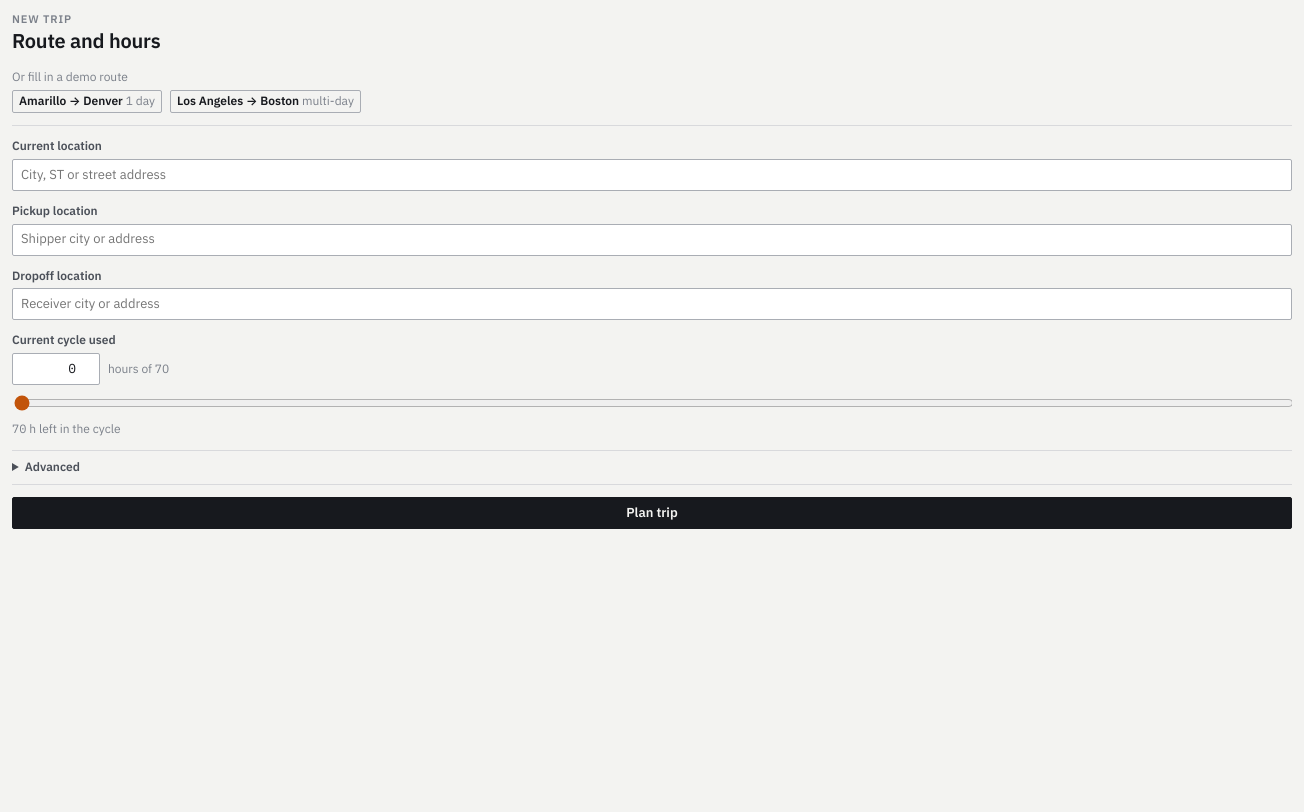
Scenario: TripForm › checks obvious mistakes locally and does not submit
Type "Denver, CO" into the field labelled "Pickup location". click: coordinates (652, 240)
box: [12,224,1292,256]
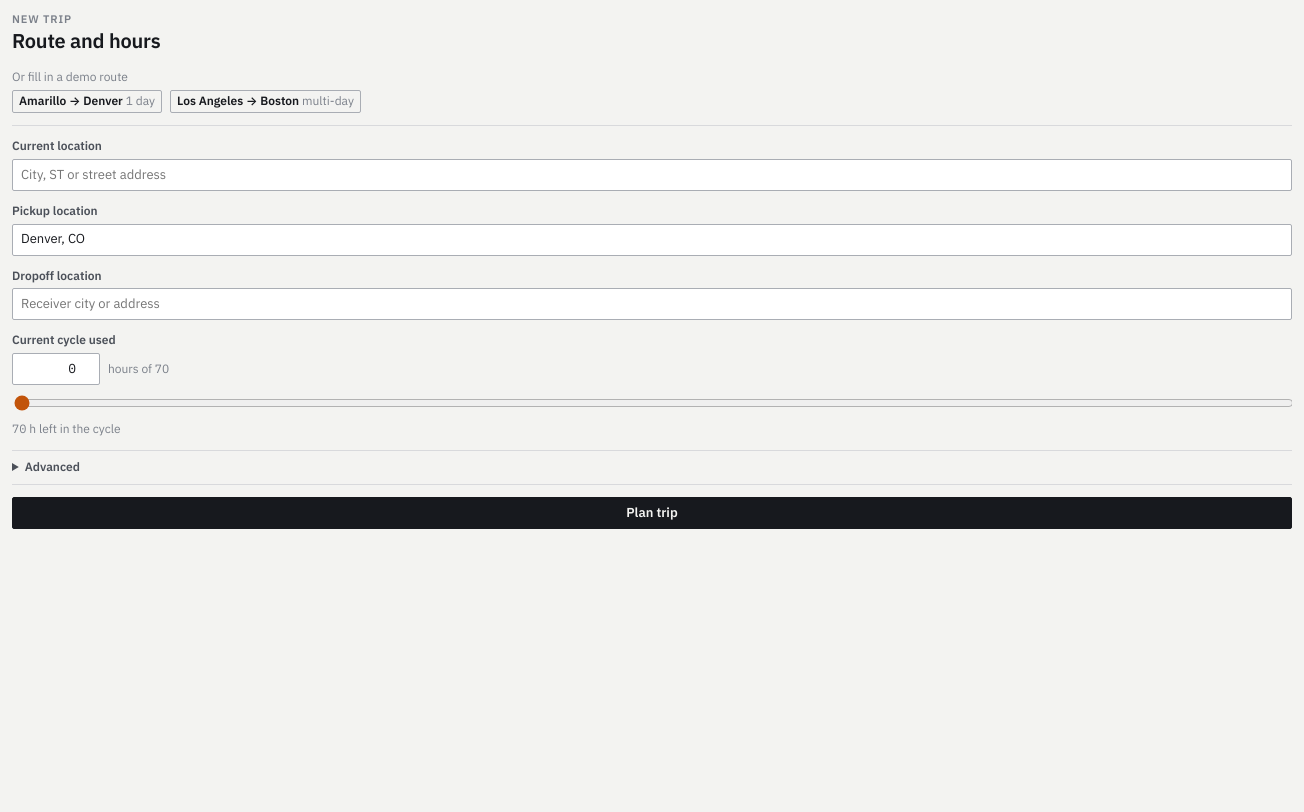
Type " denver,  co" into the field labelled "Dropoff location". click: coordinates (652, 304)
box: [12,288,1292,320]
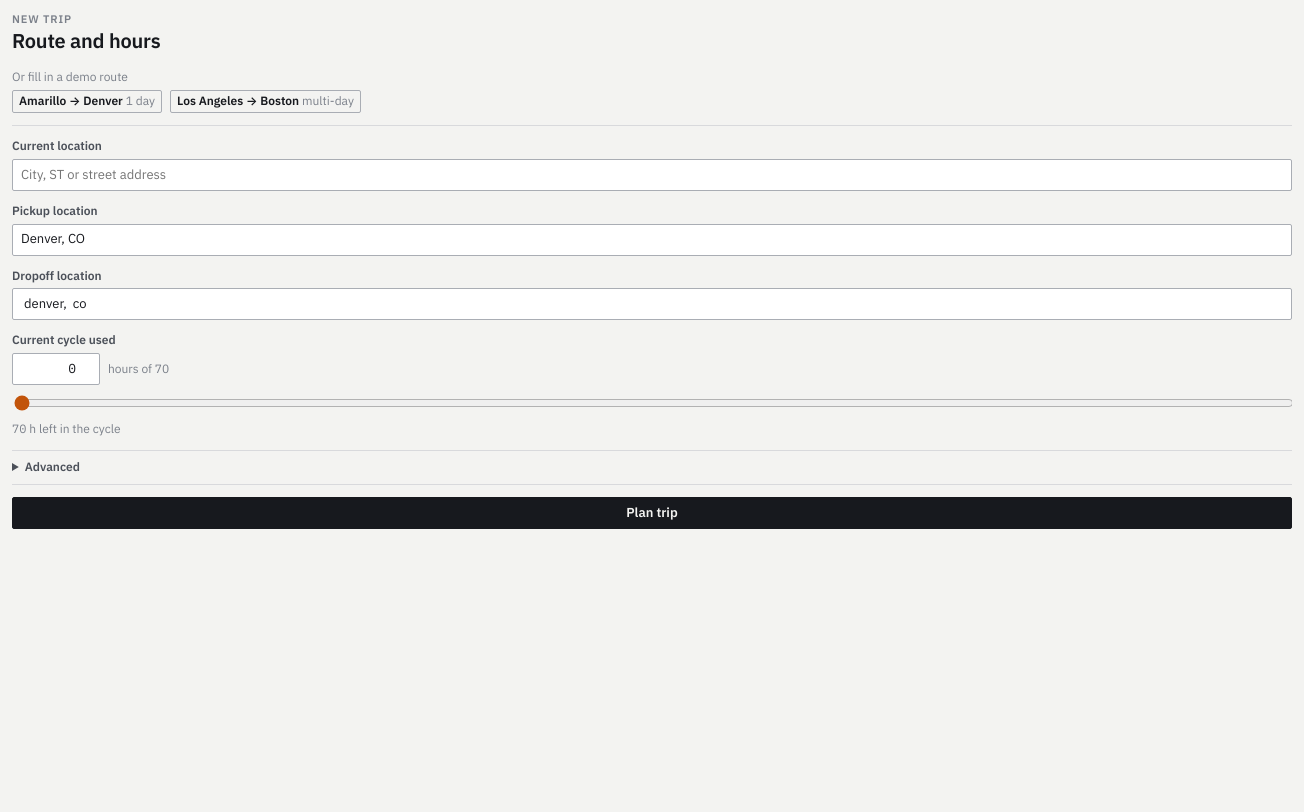
Replace the text in the number field labelled "Current cycle used" with "71". click: coordinates (56, 369)
box: [12,353,100,385]
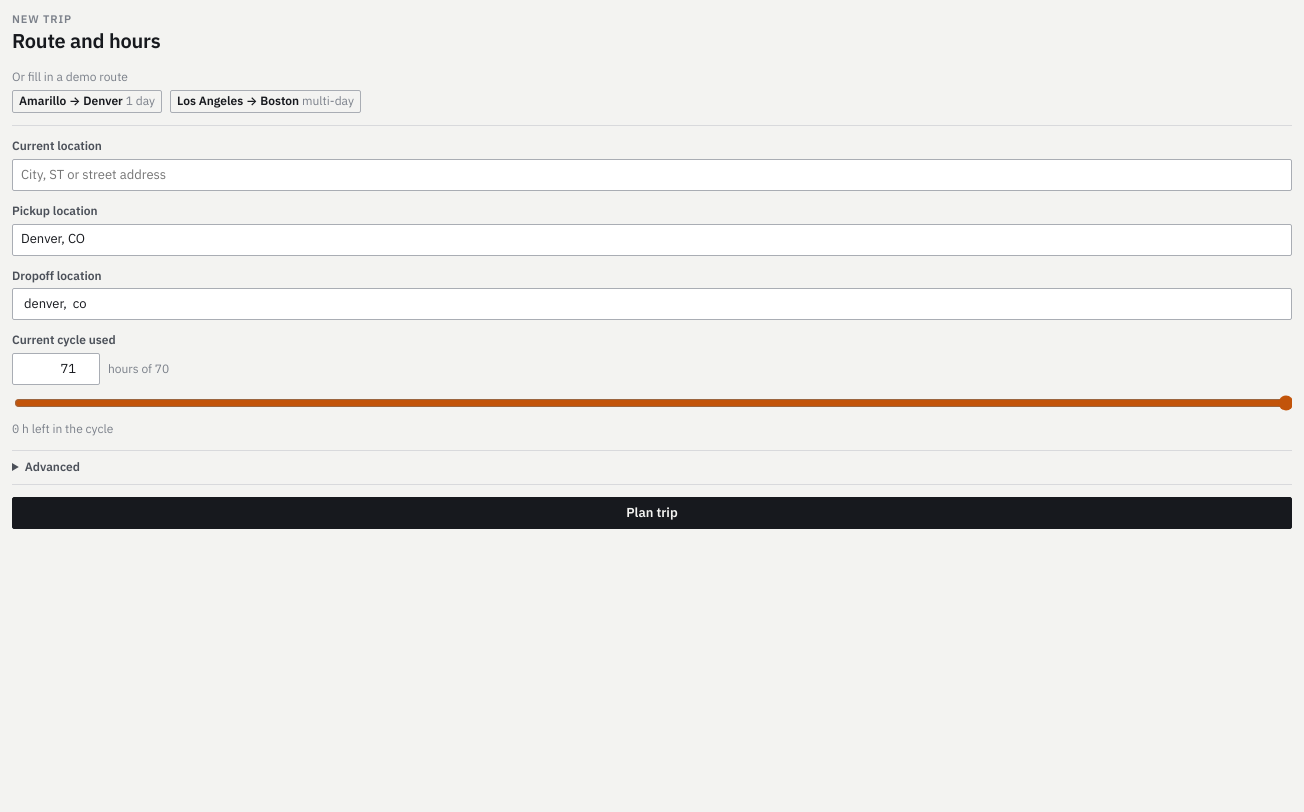
Click the button "Plan trip". click: coordinates (652, 513)
box: [12,497,1292,529]
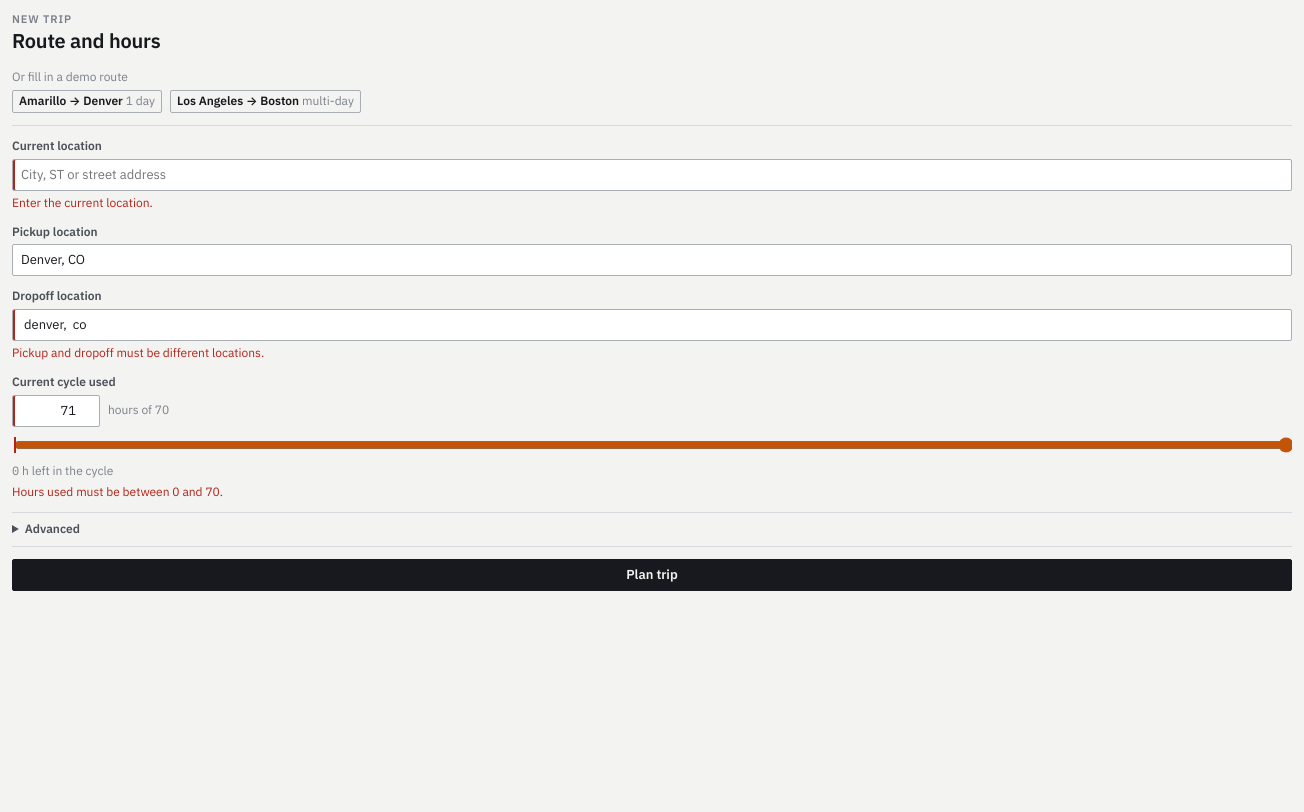
Check: the text "Hours used must be between 0 and 70." is shown, box [12,484,223,499]
Check: the text "Pickup and dropoff must be different locations." is shown, box [12,345,264,360]
